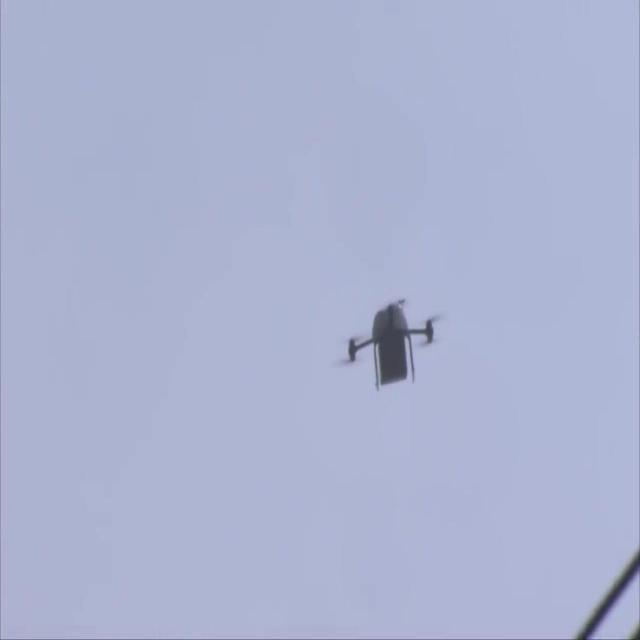UAV: (340, 299, 444, 392)
